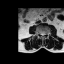CCS_severe_stenosis: (42, 32, 43, 38)
LFS_stenosis: (45, 31, 46, 36)
LLS_normal: (43, 31, 45, 37)
RFS_stenosis: (39, 31, 40, 36)
RLS_normal: (40, 32, 42, 36)
